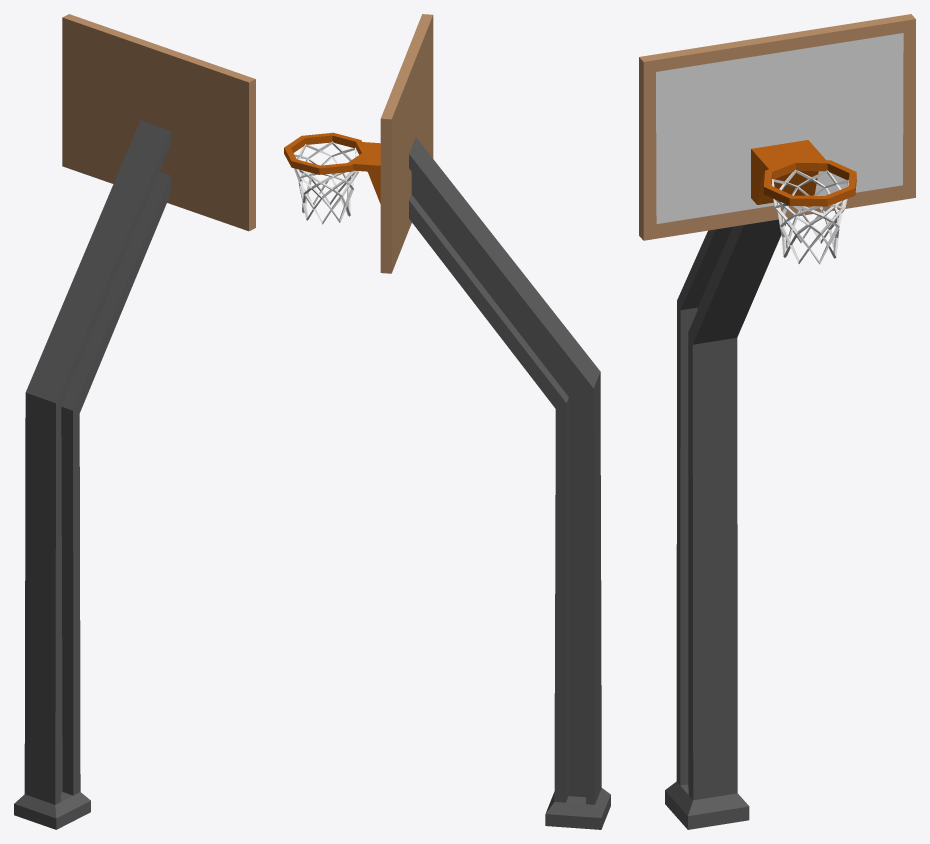
Rendered from Basketball net.fbx.
3 views of the same model, side by side, from view 1: azimuth 30°, elevation 25°; view 2: azimuth 150°, elevation 25°; view 3: azimuth 270°, elevation 25° (orthographic). The views are drawn at different scales.
Visible parts, largest first — view 1: Basketball net; view 2: Basketball net; view 3: Basketball net.
Part boxes in pixels (x1,y1,x2,y2): Basketball net: (14,14,255,829); Basketball net: (284,14,610,829); Basketball net: (639,14,915,829).
Bounding box in the file's own units: 191 × 145 × 493.
